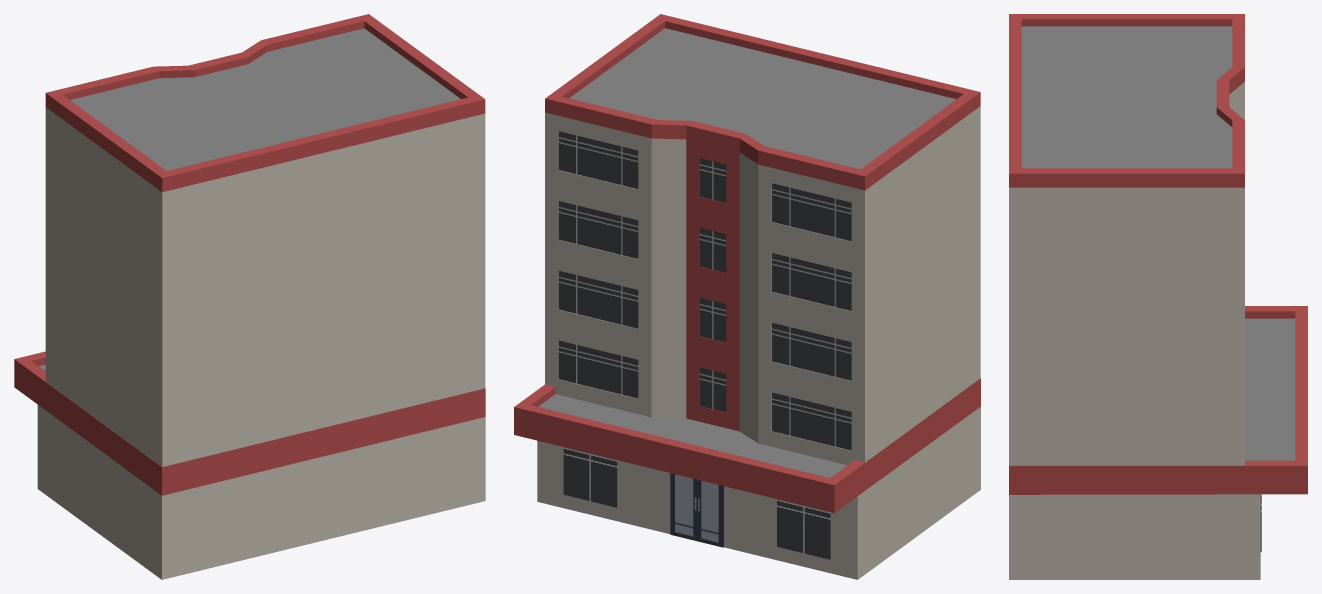
The model's file is spw-urban-bldg-03.glb.
The picture shows the model from 3 angles, left to right: view 1: azimuth 30°, elevation 25°; view 2: azimuth 150°, elevation 25°; view 3: azimuth 270°, elevation 25°; orthographic projection. The views are drawn at different scales.
Visible parts, largest first — view 1: SPW_Urban_Bldg_03; view 2: SPW_Urban_Bldg_03; view 3: SPW_Urban_Bldg_03.
Boxes of the visible parts, left/top/right/bottom form: SPW_Urban_Bldg_03: left=14, top=14, right=485, bottom=579; SPW_Urban_Bldg_03: left=514, top=14, right=980, bottom=579; SPW_Urban_Bldg_03: left=1009, top=14, right=1307, bottom=579.
Bounding box in the file's own units: 18.03 × 21.37 × 14.25.
Materials: 1 (1 with a texture image).
